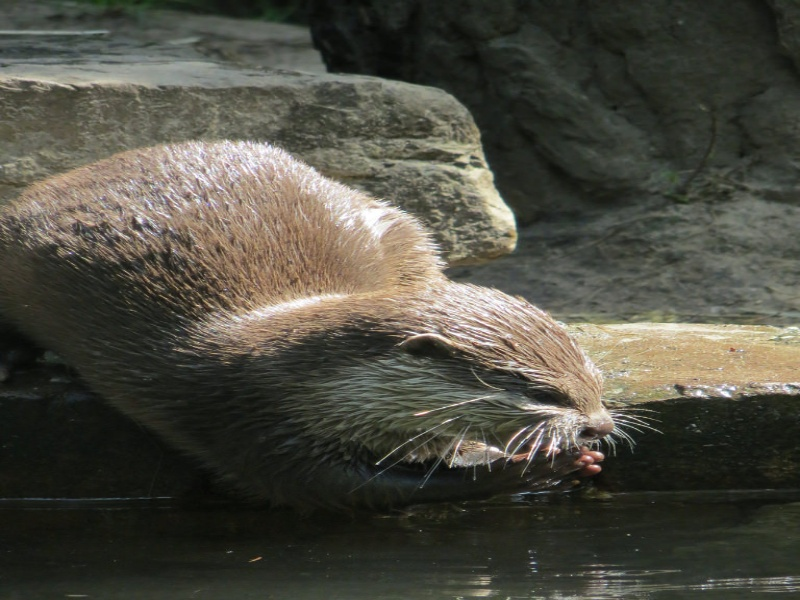minkish: (12, 137, 623, 526)
